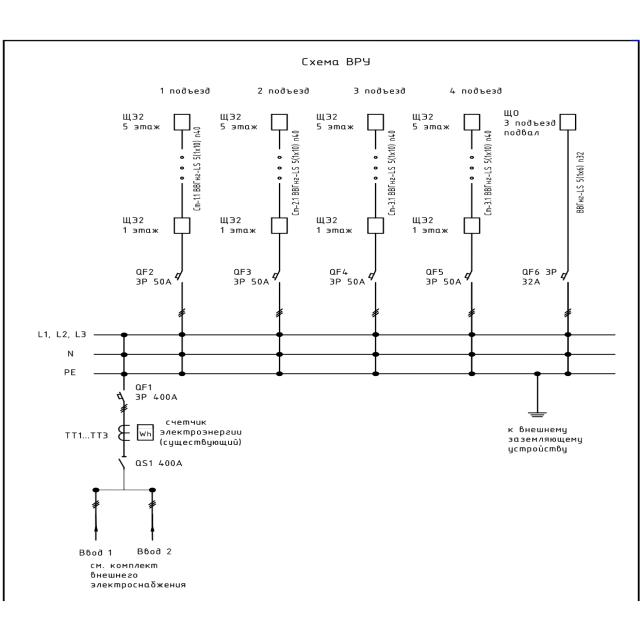-: (521, 268, 562, 286), (65, 430, 109, 440), (134, 393, 179, 402), (328, 278, 368, 288), (424, 278, 464, 288), (134, 276, 174, 286), (231, 278, 271, 287), (344, 56, 374, 68), (158, 458, 184, 468)
QF: (464, 270, 476, 285), (116, 388, 128, 402), (272, 270, 283, 284), (368, 270, 379, 284), (174, 270, 185, 284), (560, 270, 570, 285)
QS: (116, 455, 128, 469)
TT: (117, 424, 131, 442)
WH: (135, 423, 157, 444)
